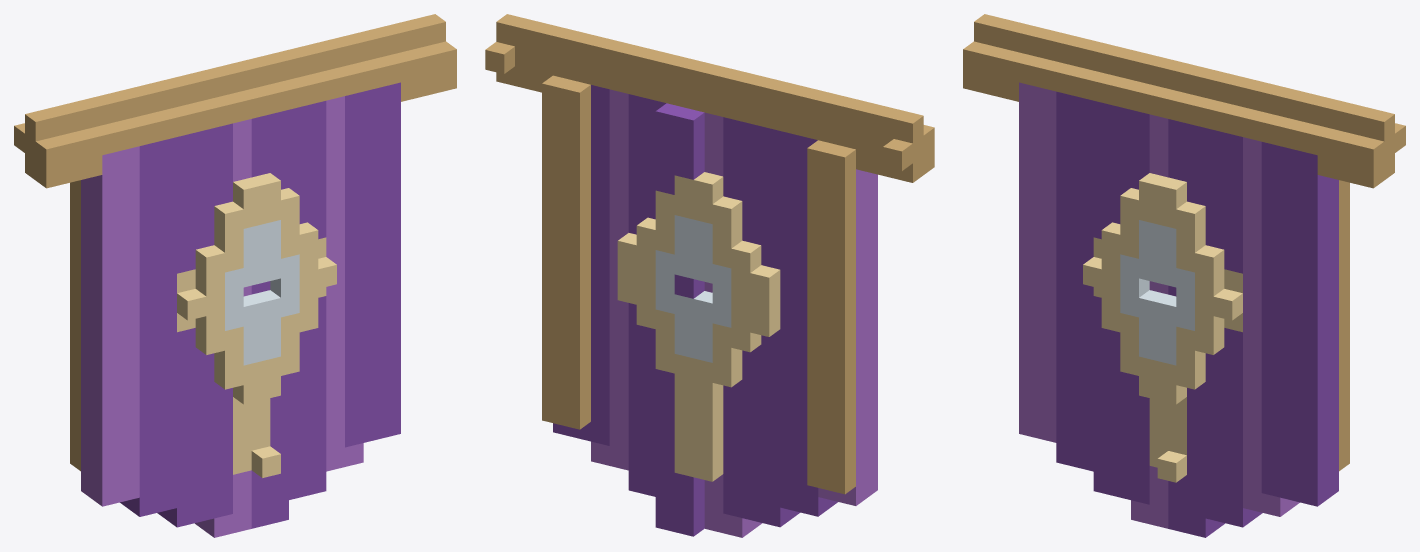
File: crystal_pennant.glb
The picture shows the model from 3 angles, left to right: view 1: azimuth 30°, elevation 25°; view 2: azimuth 150°, elevation 25°; view 3: azimuth 330°, elevation 25°; orthographic projection.
Bounding box in the file's own units: 0.9167 × 0.9583 × 0.1667.
